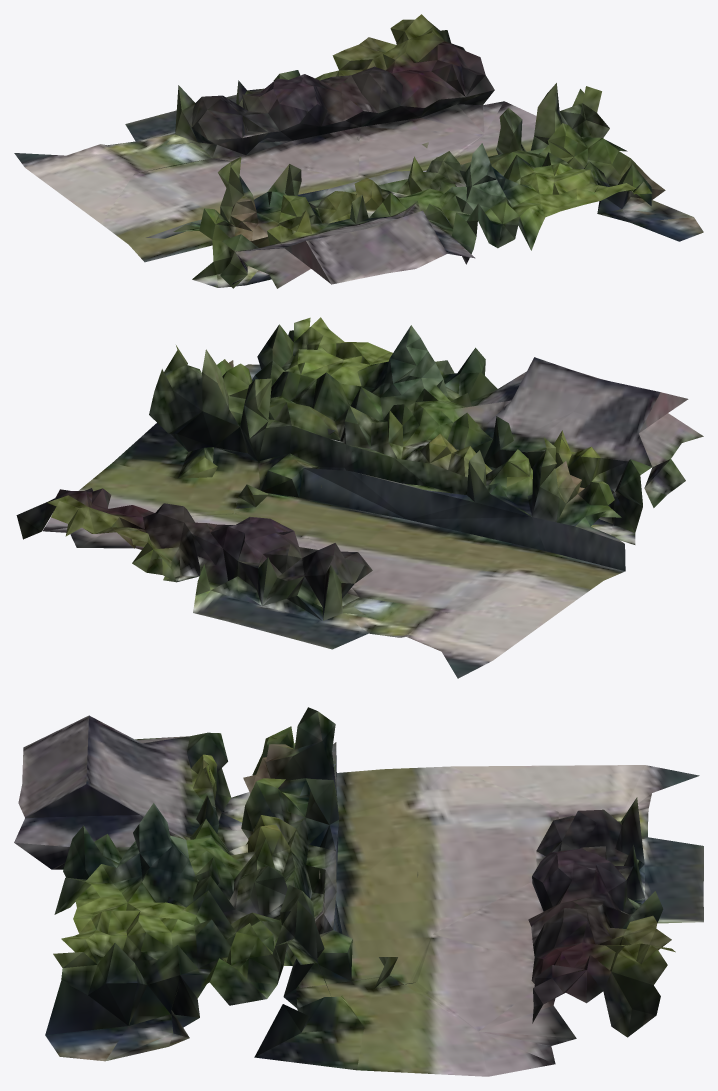
The model's file is Tile_+004_+007_L17_00.glb.
3 views of the same model, one above another, from view 1: azimuth 30°, elevation 25°; view 2: azimuth 150°, elevation 25°; view 3: azimuth 270°, elevation 25° (orthographic). The views are drawn at different scales.
Size of the model in its own units: 60.25 by 14.99 by 61.11.
1 material, 1 textured.
